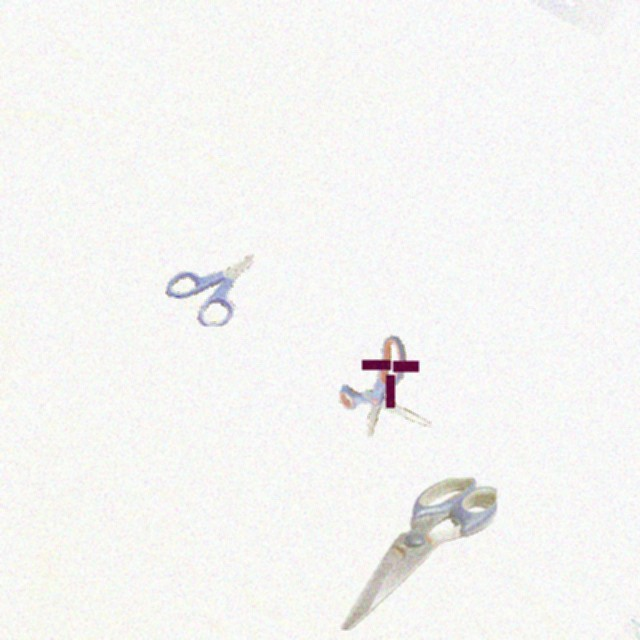scissors: (340, 478, 497, 630), (339, 335, 431, 437), (166, 253, 254, 326)
